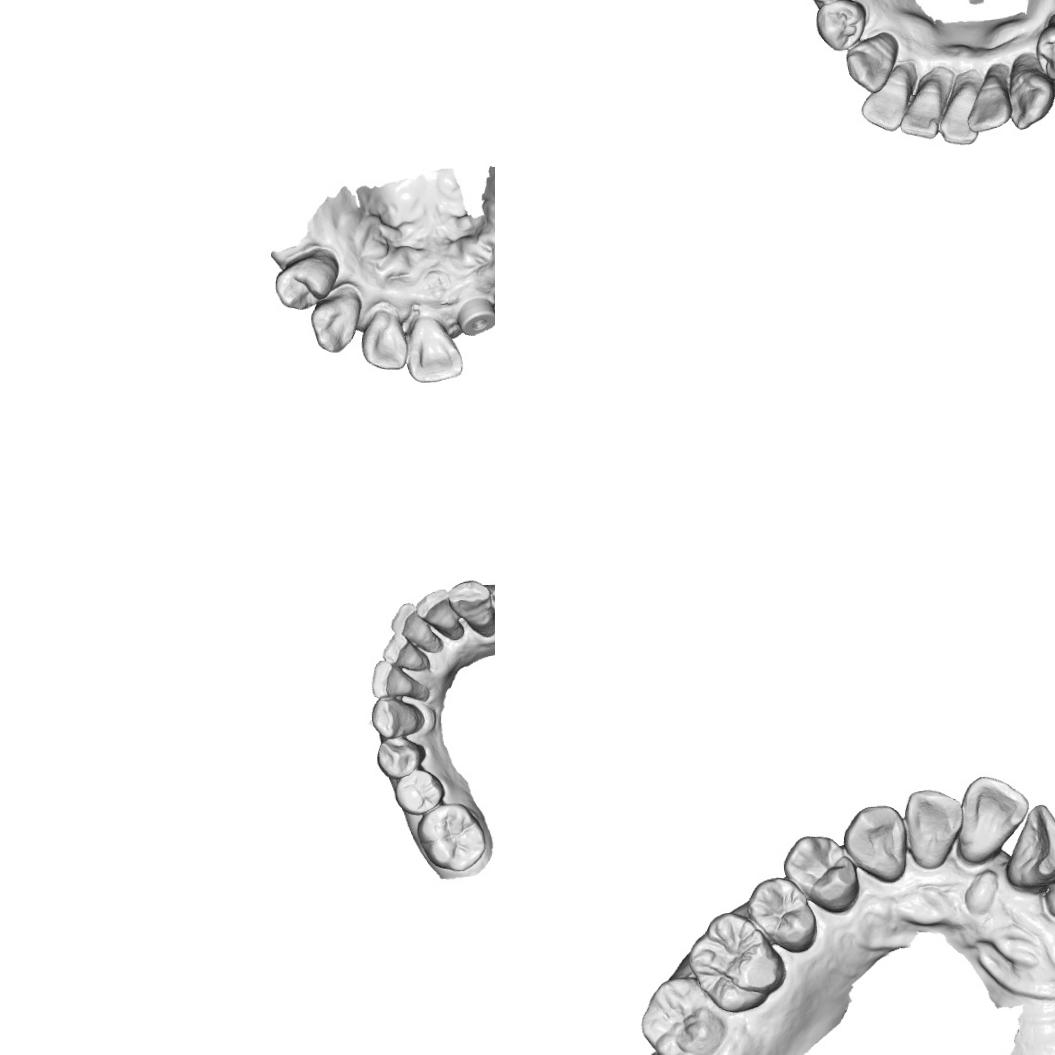canine: (841, 801, 911, 885), (306, 289, 363, 357), (1004, 63, 1055, 133), (844, 32, 900, 94), (445, 578, 495, 637), (370, 696, 424, 740)
implant: (457, 292, 495, 337)
incisor: (954, 772, 1032, 864), (902, 785, 968, 871), (1002, 800, 1055, 888), (403, 312, 465, 386), (856, 65, 916, 135), (891, 74, 950, 142), (934, 74, 984, 148), (358, 304, 412, 372), (962, 72, 1014, 136), (389, 600, 442, 656), (370, 658, 419, 700), (381, 630, 429, 672), (414, 588, 456, 631)
molar: (684, 906, 788, 1016), (637, 973, 727, 1055), (415, 801, 487, 873)
premolar: (779, 832, 864, 916), (744, 873, 820, 957), (272, 249, 342, 314), (812, 0, 874, 53), (393, 767, 445, 816), (374, 736, 427, 779), (1032, 22, 1055, 84)
